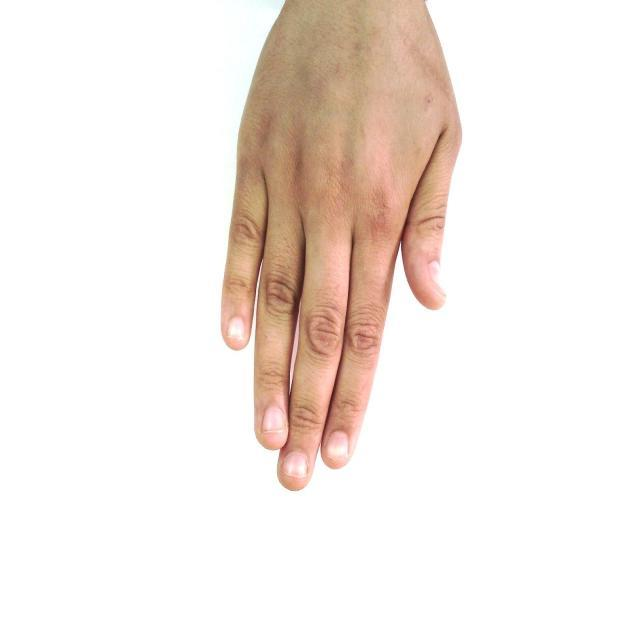Fingernail: (326, 432, 348, 465), (284, 453, 307, 478), (263, 406, 284, 432), (430, 262, 447, 294), (228, 317, 245, 343)
